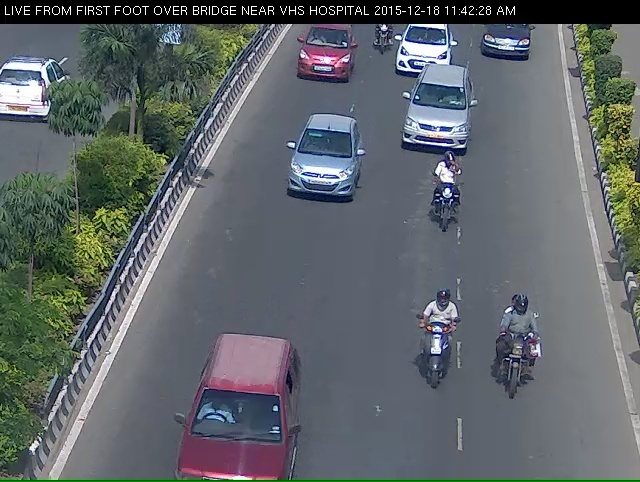Car: (166, 366, 300, 479), (280, 119, 355, 219), (407, 80, 470, 159), (396, 19, 456, 85), (396, 22, 454, 85), (298, 20, 349, 86), (480, 20, 541, 72)
Person: (496, 312, 541, 424), (423, 301, 456, 423), (430, 170, 467, 248)
